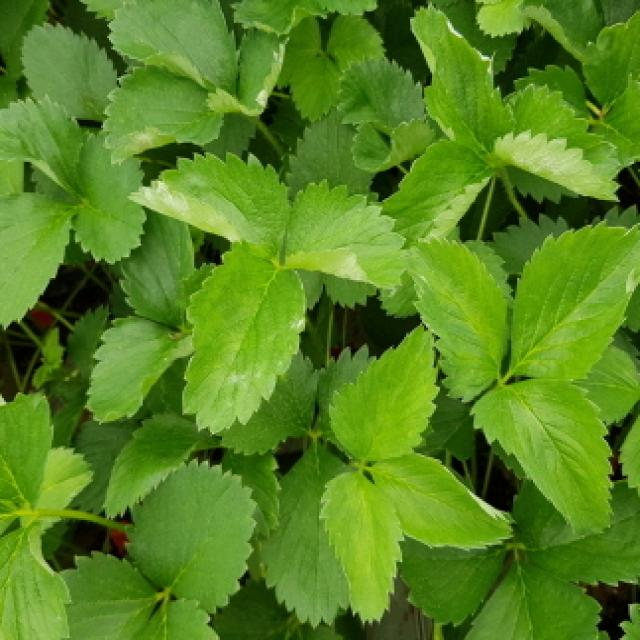Powdery Mildew Leaf: (180, 241, 306, 436), (125, 148, 288, 267), (405, 0, 515, 168), (492, 79, 621, 200), (278, 180, 410, 289), (368, 452, 515, 549), (205, 27, 292, 119)
